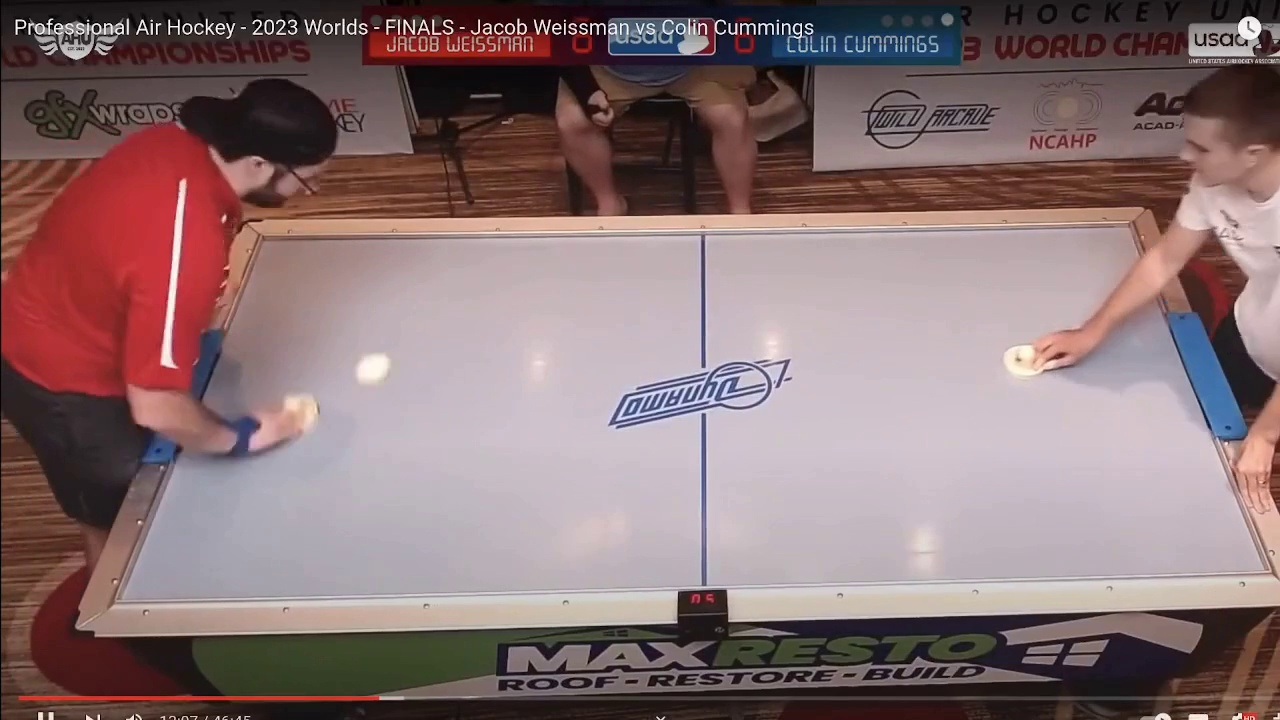player: (278, 390, 322, 432), (1001, 343, 1048, 378)
puck: (349, 352, 393, 383)
table: (101, 226, 1280, 598)
